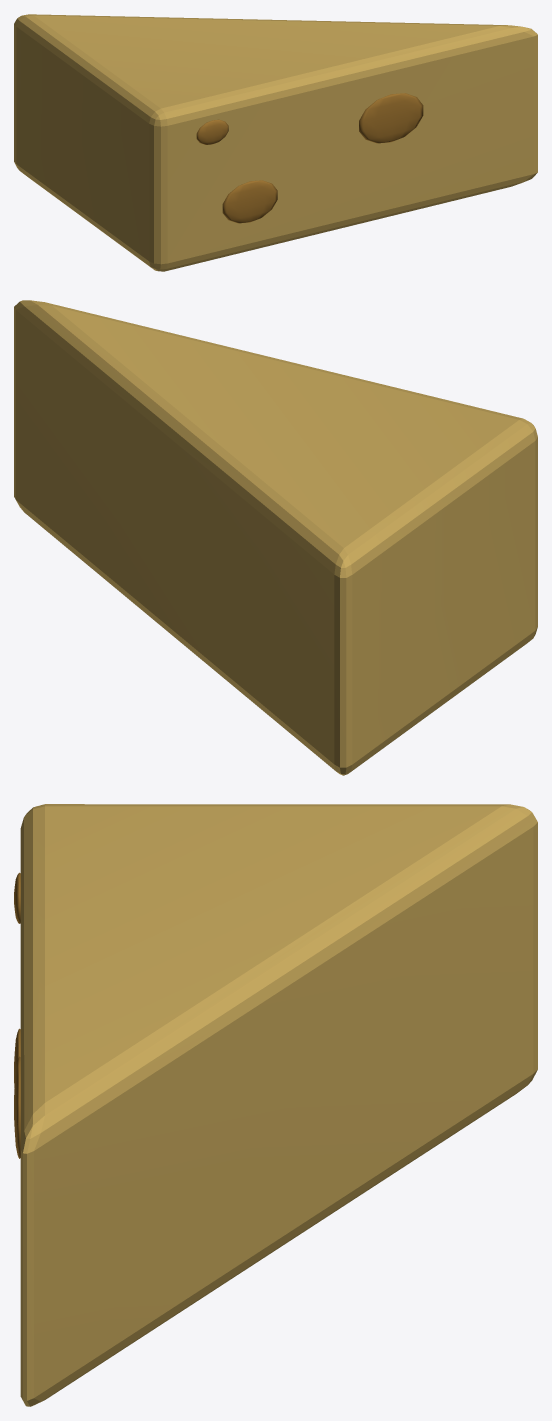
Rendered from food_queso_runtime.glb.
3 renders of one model, top to bottom at view 1: azimuth 30°, elevation 25°; view 2: azimuth 150°, elevation 25°; view 3: azimuth 270°, elevation 25°, orthographic. The views are drawn at different scales.
Parts seen in each view (by area): view 1: Queso; view 2: Queso; view 3: Queso.
Part boxes in pixels (left/top/right/bottom): Queso: left=14, top=14, right=537, bottom=271; Queso: left=14, top=300, right=537, bottom=775; Queso: left=14, top=804, right=537, bottom=1406.
Bounding box in the file's own units: 0.8158 × 0.33 × 0.538.
